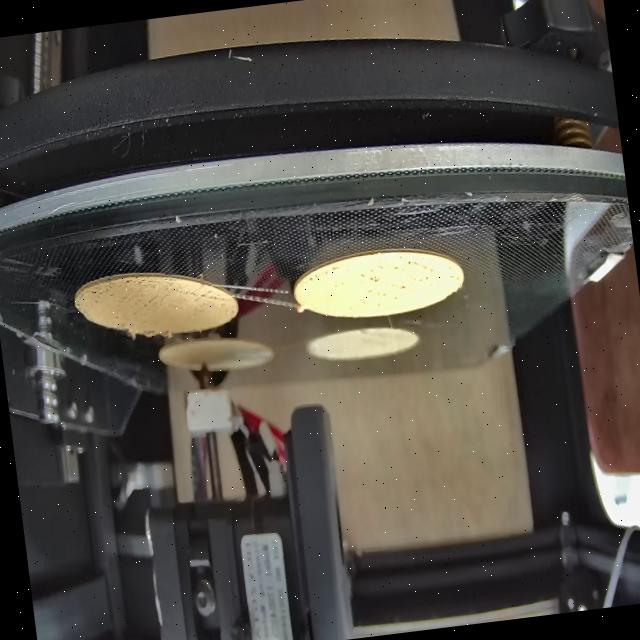under_extrusion: (358, 250, 441, 308), (92, 276, 163, 321), (174, 279, 227, 308), (301, 259, 342, 289)
